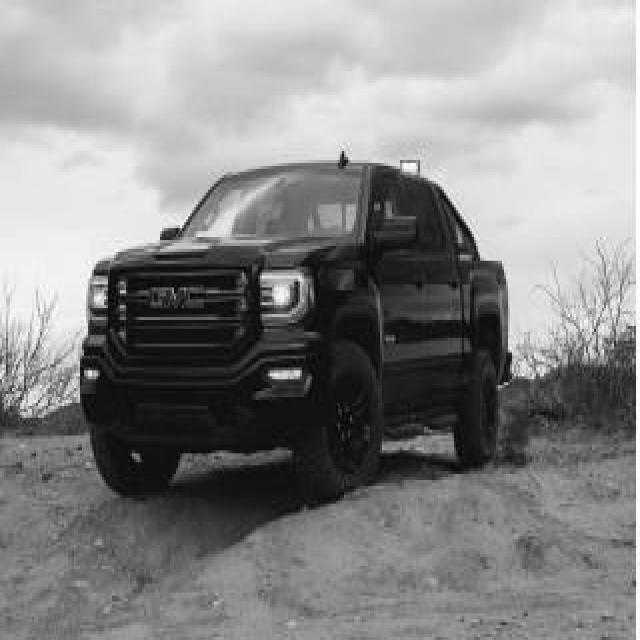Car: (80, 154, 511, 501)
